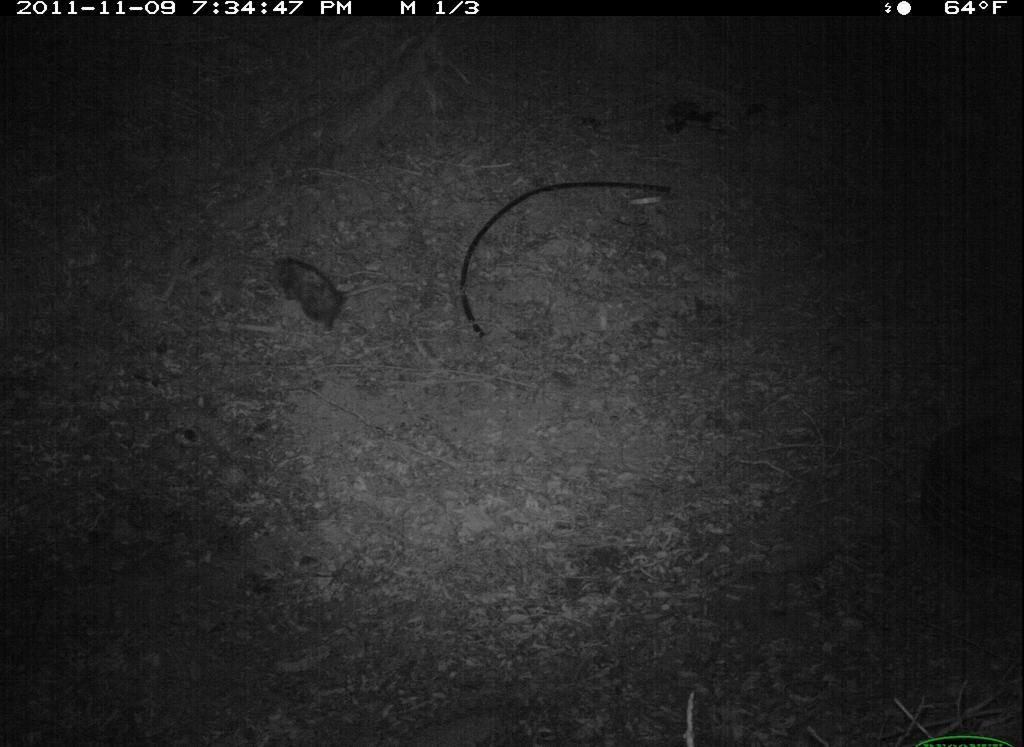opossum: (258, 251, 401, 334)
